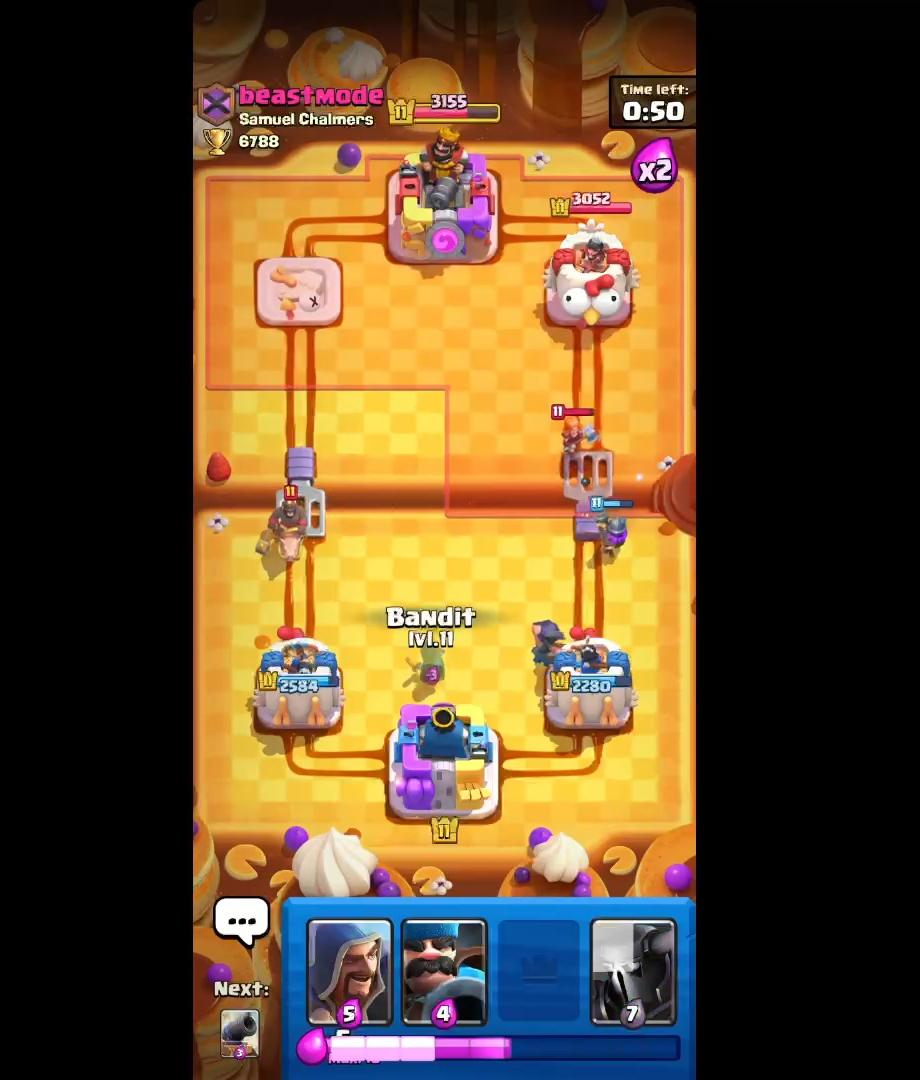Hog Rider: (254, 480, 318, 576)
Valkyrie: (550, 400, 604, 462)
